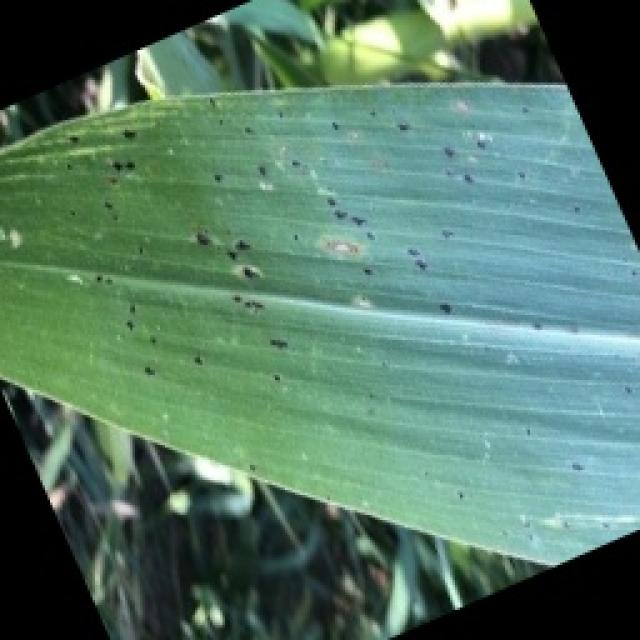Tar_Spot: (83, 114, 478, 336)
